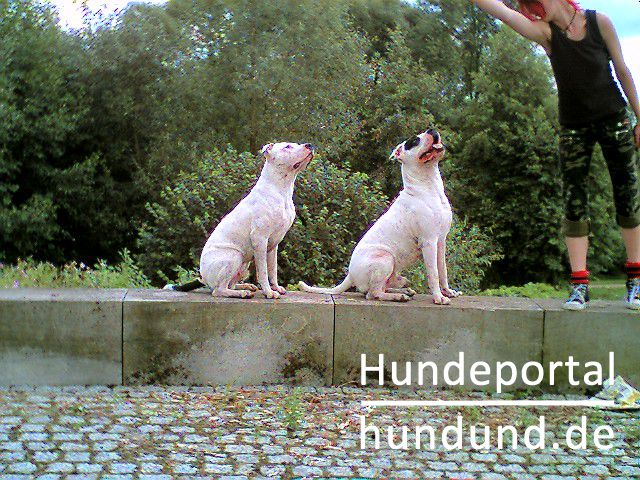dogo_argentino: (297, 127, 459, 304), (162, 141, 315, 299)
person: (470, 0, 639, 310)
